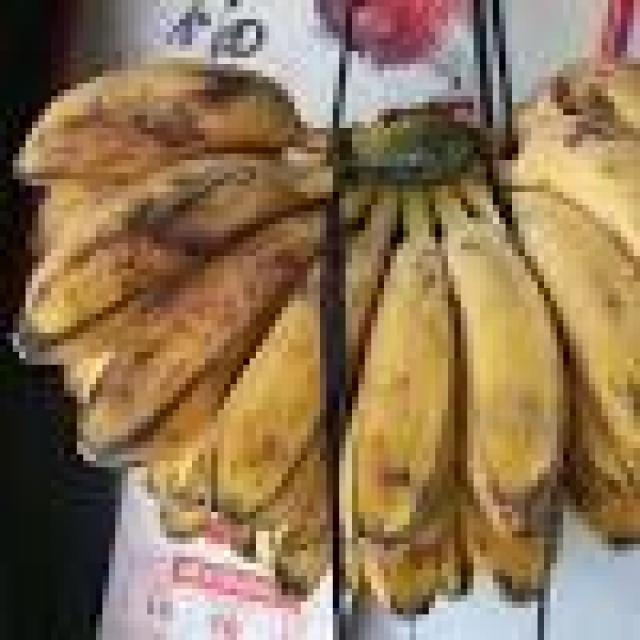banana: (13, 58, 640, 620), (77, 217, 320, 473), (13, 154, 269, 372), (205, 224, 384, 525), (435, 224, 570, 538), (12, 58, 294, 192), (340, 237, 454, 550), (461, 493, 557, 608), (358, 538, 442, 620)
